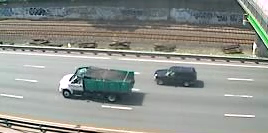car: (56, 65, 138, 104), (151, 65, 201, 88)
